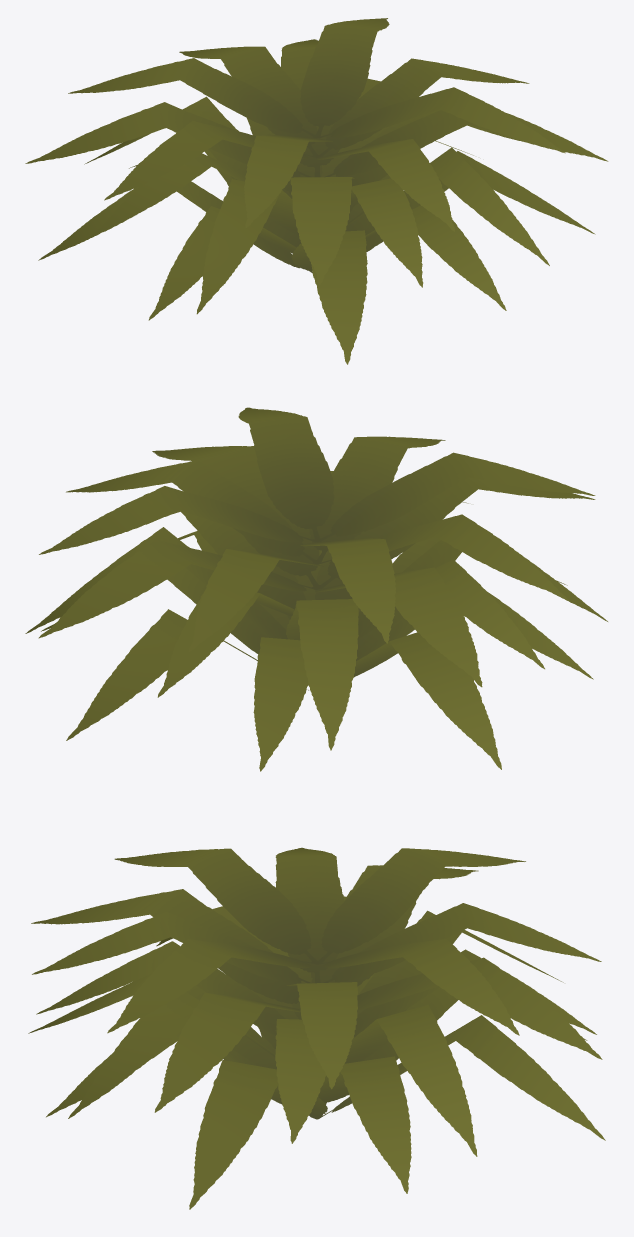
File: Plante_pot02.fbx
The picture shows the model from 3 angles, top to bottom: view 1: azimuth 30°, elevation 25°; view 2: azimuth 150°, elevation 25°; view 3: azimuth 270°, elevation 25°; orthographic projection. The views are drawn at different scales.
Visible parts, largest first — view 1: pPlane69; view 2: pPlane69; view 3: pPlane69.
Part boxes in pixels (x1=…): pPlane69: x1=25, y1=18, x2=608, y2=364; pPlane69: x1=25, y1=407, x2=607, y2=771; pPlane69: x1=28, y1=847, x2=605, y2=1209.
Size of the model in its own units: 0.5737 by 0.2264 by 0.5737.
